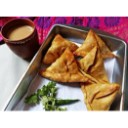samosa: (46, 47, 91, 82), (83, 81, 119, 112), (78, 31, 114, 62), (82, 47, 108, 81)
